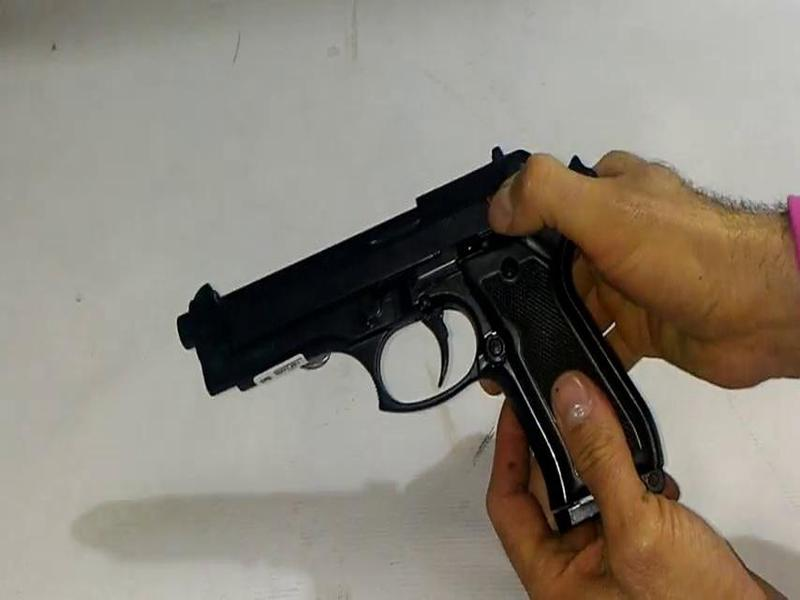Pistola: (159, 127, 675, 566)
